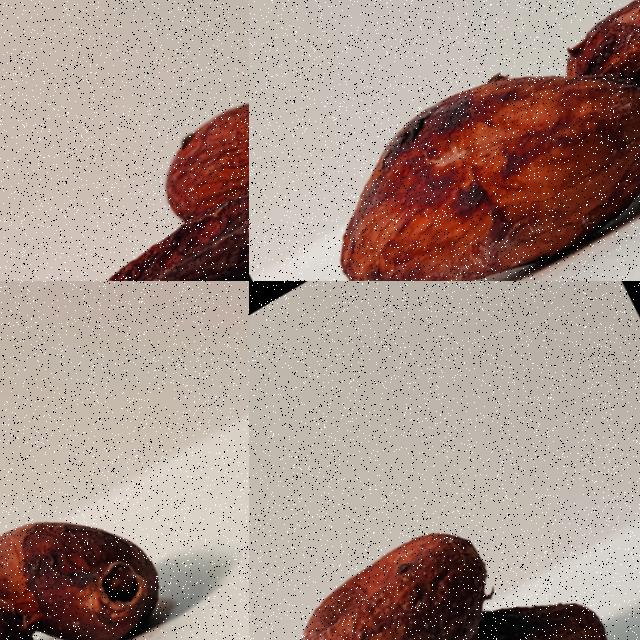Agglomerated_cocoabeans: (249, 0, 639, 280), (249, 365, 639, 639), (0, 0, 248, 280), (0, 410, 248, 639)
